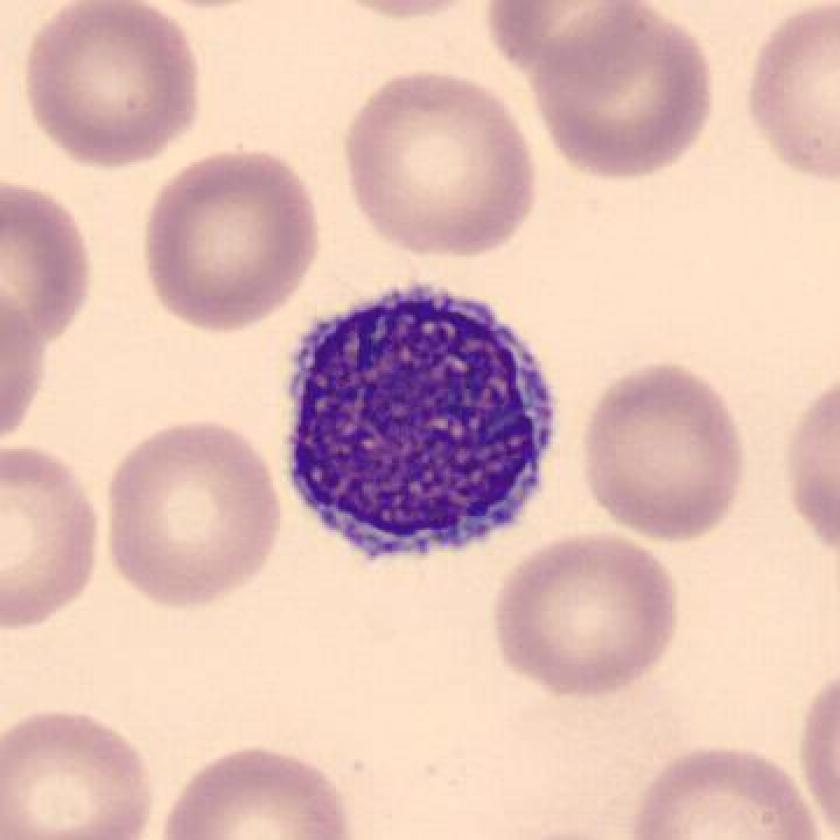lymphocyte: (267, 262, 570, 575)
